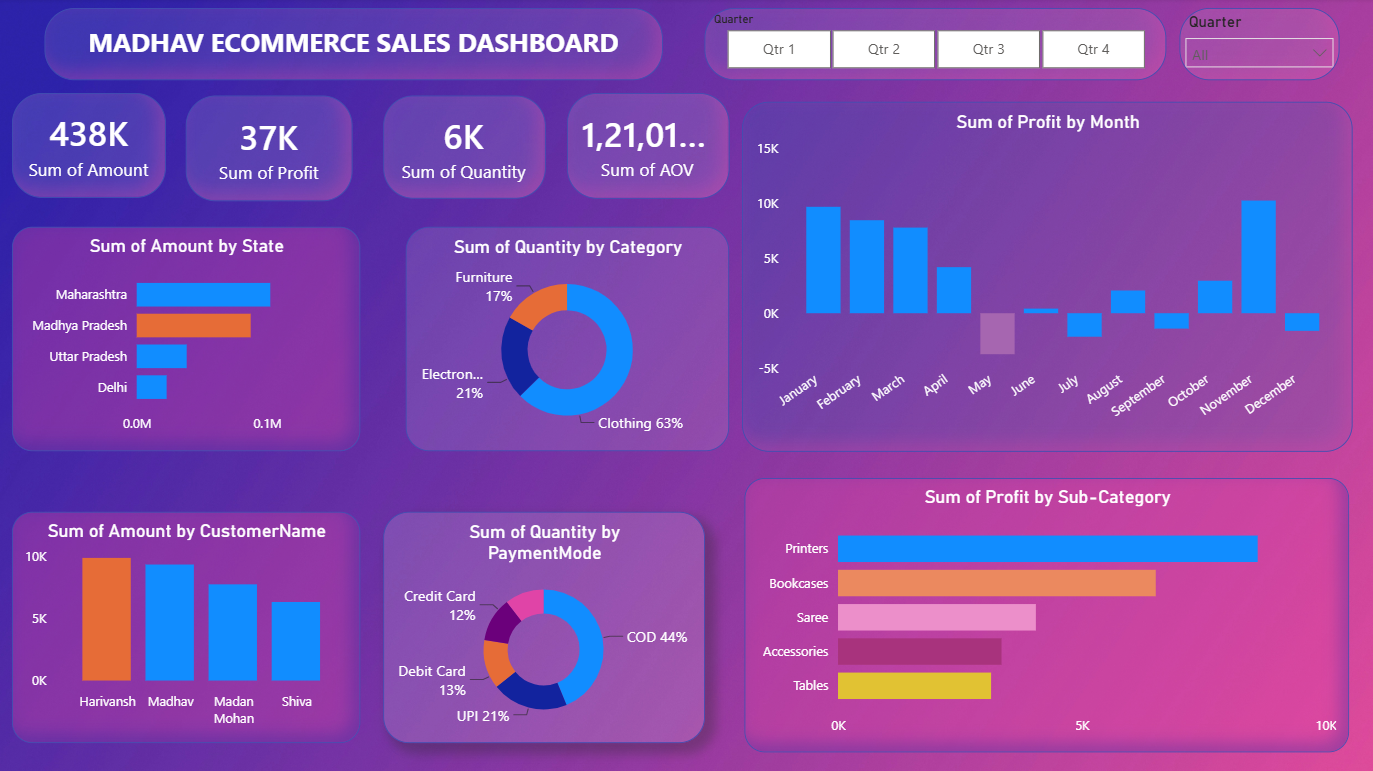

The page's visual inventory and layout, read from the dashboard file:
{"tool":"powerbi","page":{"name":"Page 1","canvas":[1280,720],"ordinal":0},"visuals":[{"type":"columnChart","fields":{"Category":["Orders.Order Date.Variation.Date Hierarchy.Month"],"Y":["Sum(Details.Profit)"]},"box":[693,96.1,568.1,325.2],"z":0},{"type":"barChart","fields":{"Category":["Details.Sub-Category"],"Y":["Sum(Details.Profit)"]},"box":[695.7,446,562.6,255.2],"z":1000},{"type":"donutChart","fields":{"Category":["Details.Category"],"Y":["Sum(Details.Quantity)"]},"box":[380.1,212.7,300.5,208.6],"z":2000},{"type":"donutChart","fields":{"Y":["Sum(Details.Quantity)"],"Category":["Details.PaymentMode"]},"box":[359.5,477.5,299.1,215.4],"z":3000},{"type":"cardVisual","fields":{"Data":["Sum(Details.Amount)"]},"box":[14,88.4,143,97.7],"z":4000},{"type":"cardVisual","fields":{"Data":["Sum(Details.Profit)"]},"box":[175.6,90.6,155.1,98.8],"z":5000},{"type":"cardVisual","fields":{"Data":["Sum(Details.Quantity)"]},"box":[359.5,90.6,150.9,96.1],"z":6000},{"type":"cardVisual","fields":{"Data":["Sum(Details.AOV)"]},"box":[529.7,87.8,150.9,98.8],"z":7000},{"type":"barChart","fields":{"Y":["Sum(Details.Amount)"],"Category":["Orders.State"]},"box":[13.7,212.7,323.8,208.6],"z":8000},{"type":"columnChart","fields":{"Category":["Orders.CustomerName"],"Y":["Sum(Details.Amount)"]},"box":[14,478,324,215],"z":9000},{"type":"textbox","box":[43.9,9.6,575,67.2],"z":10000},{"type":"slicer","fields":{"Values":["Orders.Order Date.Variation.Date Hierarchy.Quarter"]},"box":[658.7,9.6,429.5,67.2],"z":11000},{"type":"slicer","fields":{"Values":["Orders.Order Date.Variation.Date Hierarchy.Quarter"]},"box":[1100,9.3,148.8,67.4],"z":11001}]}

Visuals, with their boxes in screenshot pixels (x1, y1, x2, y2), scaled from the page's 1280x720 canvas onto the 1373x771 screenshot:
columnChart - Orders.Order Date.Variation.Date Hierarchy.Month x Sum(Details.Profit): [left=743, top=103, right=1353, bottom=451]
barChart - Details.Sub-Category x Sum(Details.Profit): [left=746, top=478, right=1350, bottom=751]
donutChart - Details.Category x Sum(Details.Quantity): [left=408, top=228, right=730, bottom=451]
donutChart - Sum(Details.Quantity) x Details.PaymentMode: [left=386, top=511, right=706, bottom=742]
cardVisual - Sum(Details.Amount): [left=15, top=95, right=168, bottom=199]
cardVisual - Sum(Details.Profit): [left=188, top=97, right=355, bottom=203]
cardVisual - Sum(Details.Quantity): [left=386, top=97, right=547, bottom=200]
cardVisual - Sum(Details.AOV): [left=568, top=94, right=730, bottom=200]
barChart - Sum(Details.Amount) x Orders.State: [left=15, top=228, right=362, bottom=451]
columnChart - Orders.CustomerName x Sum(Details.Amount): [left=15, top=512, right=363, bottom=742]
textbox: [left=47, top=10, right=664, bottom=82]
slicer - Orders.Order Date.Variation.Date Hierarchy.Quarter: [left=707, top=10, right=1167, bottom=82]
slicer - Orders.Order Date.Variation.Date Hierarchy.Quarter: [left=1180, top=10, right=1340, bottom=82]
